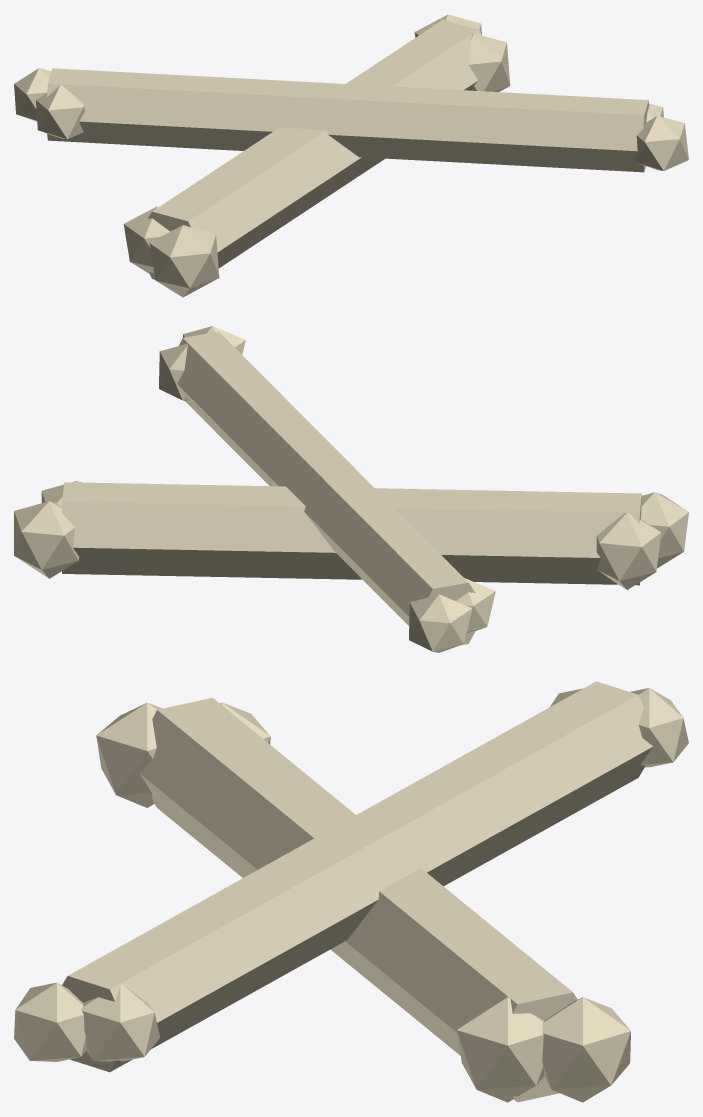
File: Bones.glb
3 views of the same model, one above another, from view 1: azimuth 30°, elevation 25°; view 2: azimuth 150°, elevation 25°; view 3: azimuth 270°, elevation 25° (orthographic). The views are drawn at different scales.
Parts seen in each view (by area): view 1: Bones; view 2: Bones; view 3: Bones.
Part boxes in pixels (left/top/right/bottom): Bones: left=14, top=14, right=688, bottom=297; Bones: left=14, top=326, right=688, bottom=652; Bones: left=14, top=681, right=688, bottom=1102.
Size of the model in its own units: 0.3483 by 0.0645 by 0.2808.
